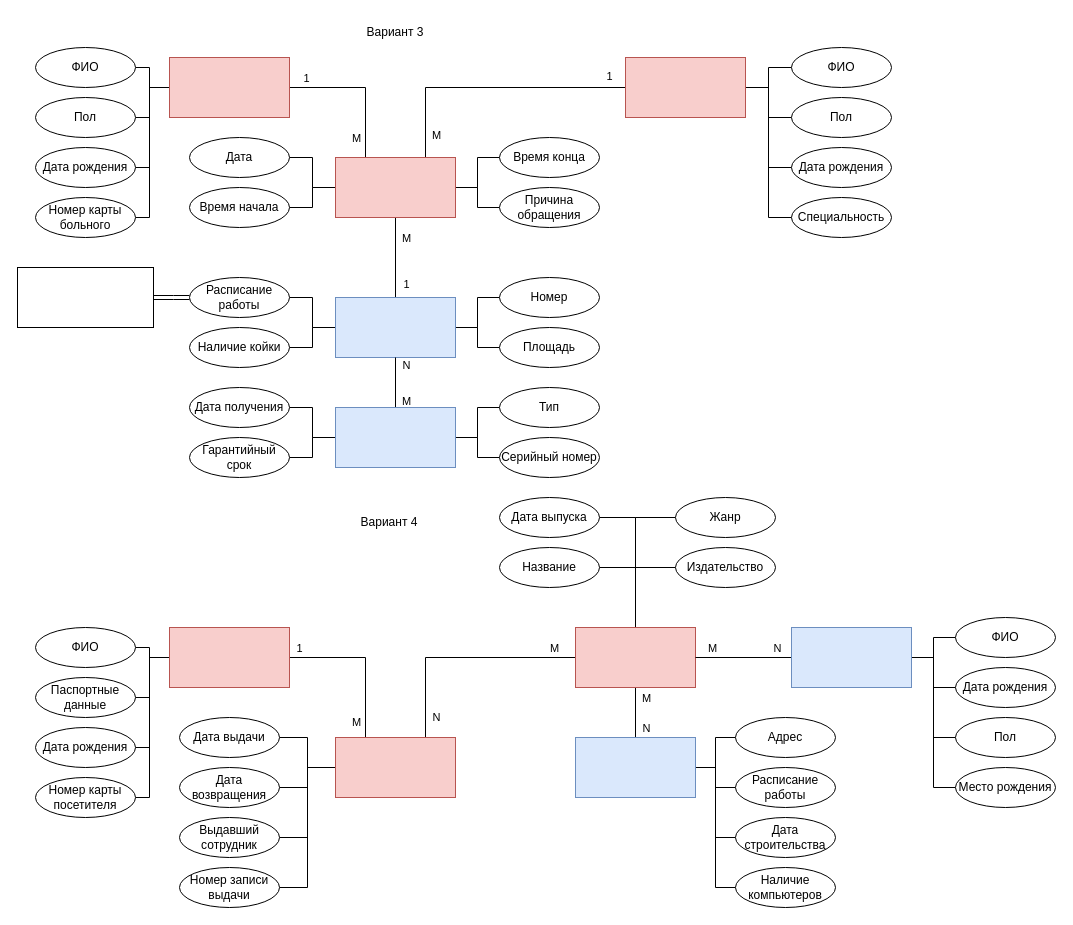
The diagram is 1073 pixels wide and 925 high, and some of its shapes have lost their labels. Here are the shapes that lost their labels. From the top down, the box of each, then its label:
(168, 56, 290, 118): Больной
(624, 56, 746, 118): Врач поликлиники
(334, 156, 456, 218): Приём больного
(16, 266, 154, 328): Пояснение: Время проветривания или дезинфекции, например
(334, 296, 456, 358): Кабинет
(334, 406, 456, 468): Медицинский прибор
(168, 626, 290, 688): Читатель
(574, 626, 696, 688): Книга
(790, 626, 912, 688): Автор
(334, 736, 456, 798): Выдача
(574, 736, 696, 798): Архив
